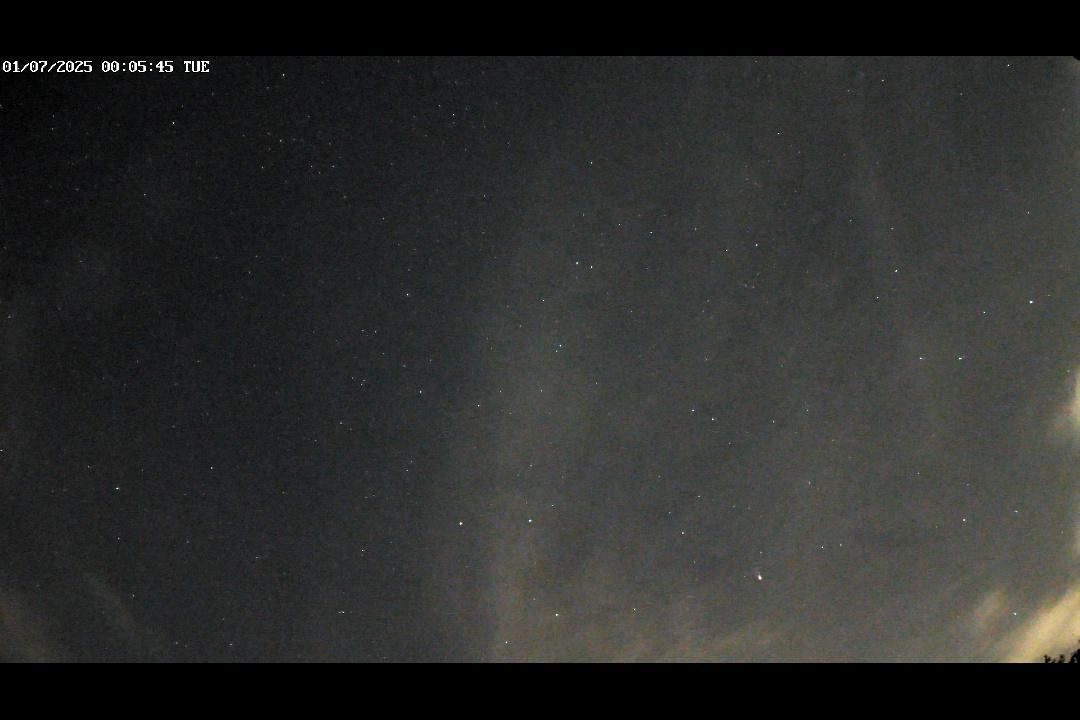Plane: (742, 548, 771, 587)
